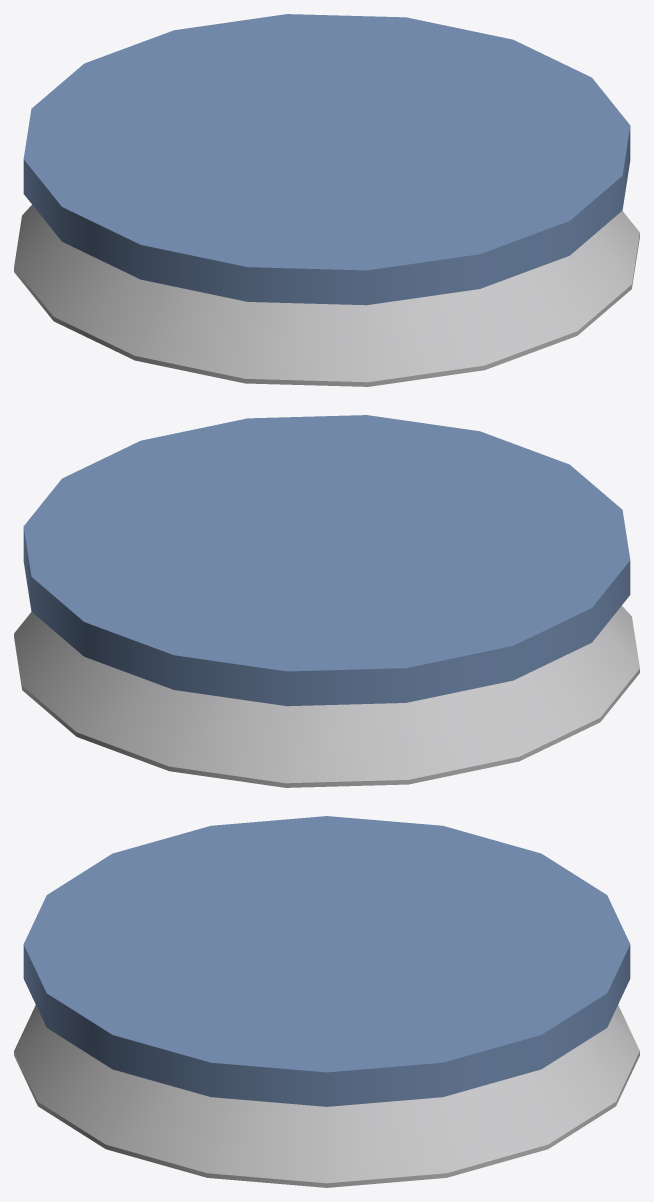
Rendered from Light.fbx.
3 renders of one model, top to bottom at view 1: azimuth 30°, elevation 25°; view 2: azimuth 150°, elevation 25°; view 3: azimuth 270°, elevation 25°, orthographic.
Visible parts, largest first — view 1: Cylinder.001; view 2: Cylinder.001; view 3: Cylinder.001.
Part boxes in pixels (box(x1,y1,x2,y2)): Cylinder.001: box(14, 14, 639, 386); Cylinder.001: box(14, 415, 639, 787); Cylinder.001: box(14, 816, 639, 1187).
Bounding box in the file's own units: 206 × 47.74 × 206.
